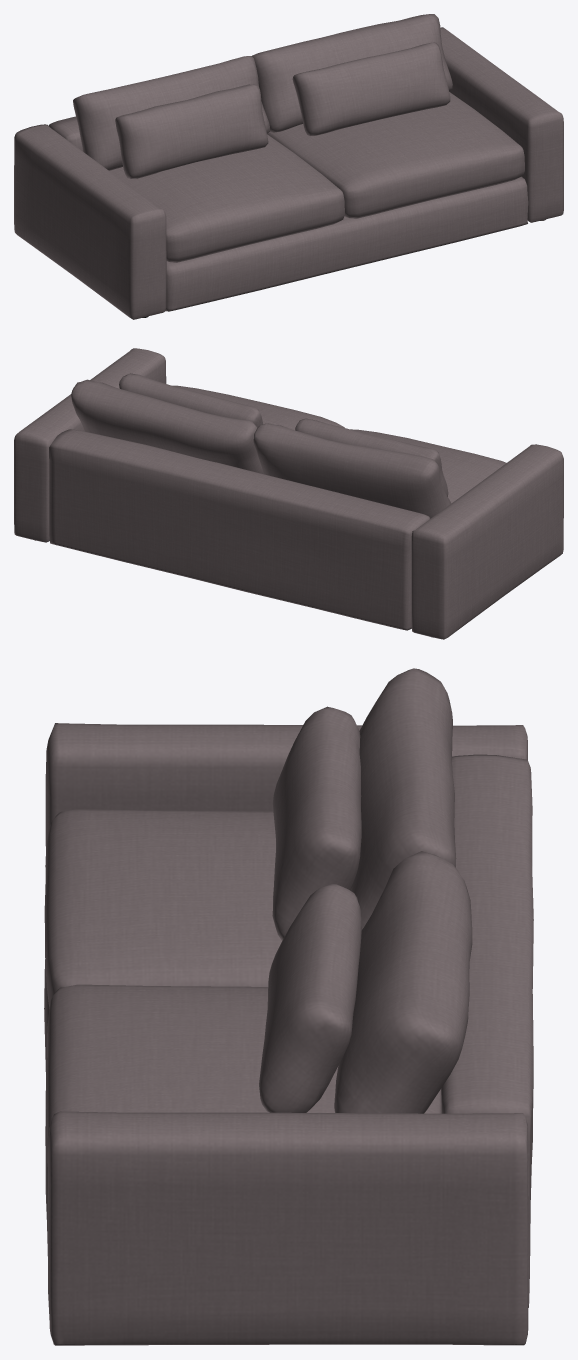
File: SofaExp.fbx
3 renders of one model, top to bottom at view 1: azimuth 30°, elevation 25°; view 2: azimuth 150°, elevation 25°; view 3: azimuth 270°, elevation 25°, orthographic. The views are drawn at different scales.
Visible parts, largest first — view 1: mirabel_98_pewter; view 2: mirabel_98_pewter; view 3: mirabel_98_pewter.
Boxes of the visible parts, x1,y1,x2,y2 form: mirabel_98_pewter: (14, 14, 563, 319); mirabel_98_pewter: (14, 348, 563, 639); mirabel_98_pewter: (44, 668, 533, 1345).
Size of the model in its own units: 2.51 by 0.8401 by 1.22.
Materials: 2 (1 with a texture image).
